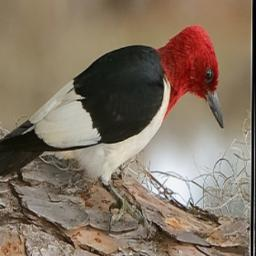Woodpecker: (0, 17, 230, 239)
